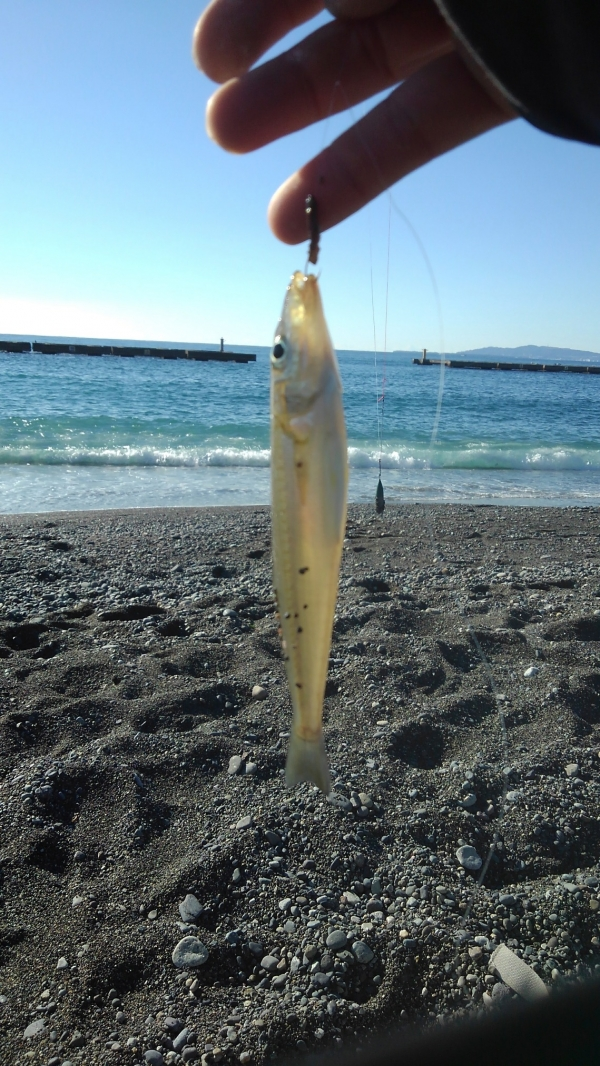kiss: (248, 260, 363, 800)
